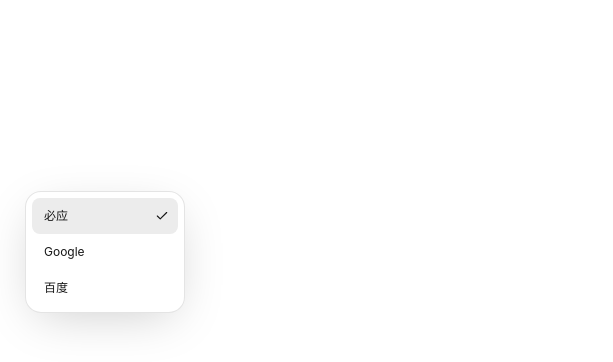
Test: 搜索引擎用 Select 单选，切换不提交搜索，随后使用所选引擎搜索
Earlier steps of the test are not shown.
Later steps or results of the test are not shown.
Click the option "Google".
click(64, 252)  # box [44,244,85,259]
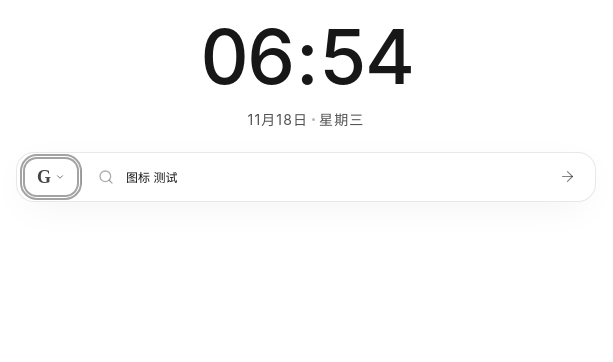
Expected: the list is gone
Press Space in the dropdown named "选择搜索引擎，当前Google", box [25,159,77,195]
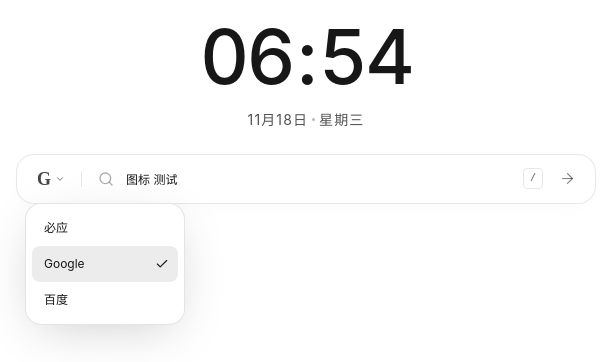
Expected: the list is shown, [25,203,185,325]
Press / in the option "Google", box [32,246,178,282]
Press Escape in the option "Google", box [32,246,178,282]
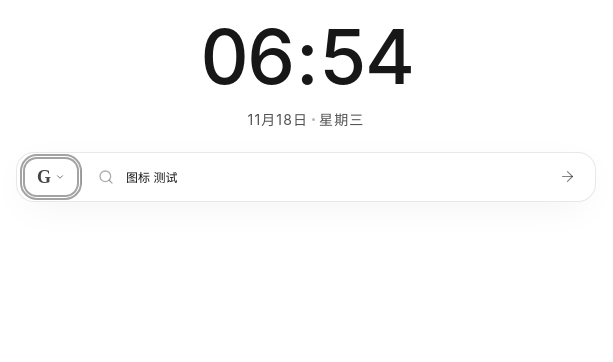
Expected: the list is gone
